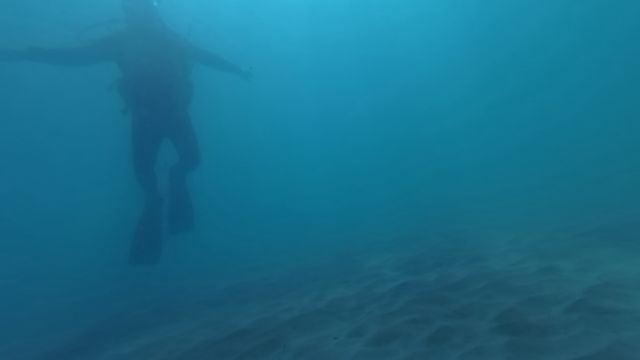Diver: (3, 1, 266, 278)
Hand: (4, 32, 39, 77), (235, 59, 261, 96)
